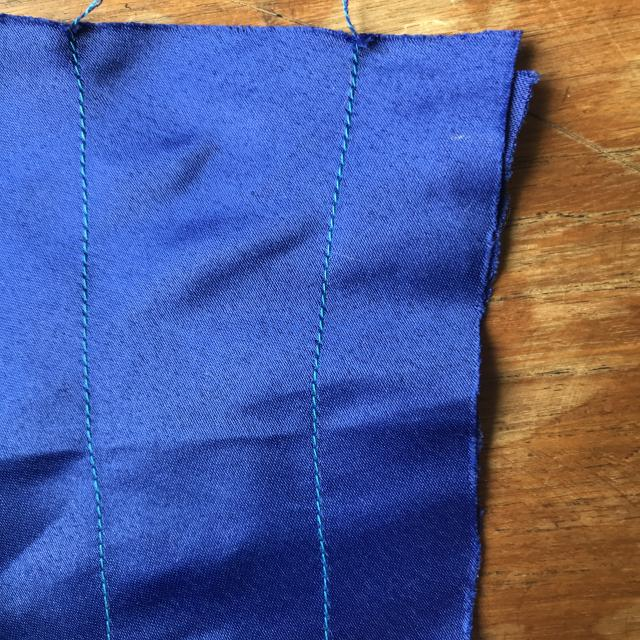good: (72, 158, 94, 330)
